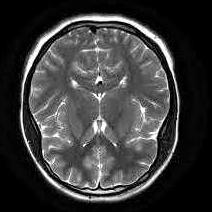Normal_Brain: (1, 1, 207, 212)
